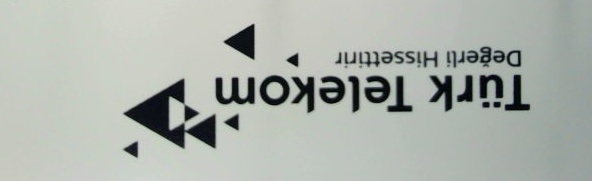AQ_TURKTelekom: (117, 19, 531, 163)
